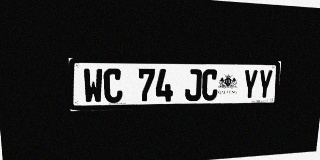4: (155, 69, 173, 102)
7: (137, 69, 155, 102)
C: (103, 68, 123, 103), (201, 69, 218, 101)
J: (185, 69, 202, 101)
W: (83, 68, 103, 104)
Y: (242, 69, 258, 100), (257, 70, 273, 99)
